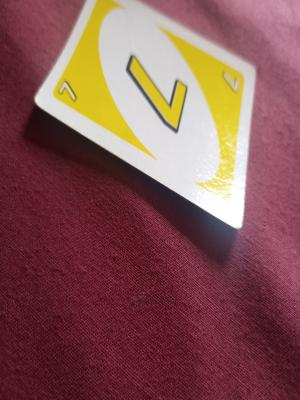num_7: (116, 41, 202, 145), (52, 77, 103, 107)
yellow: (214, 60, 246, 176)
